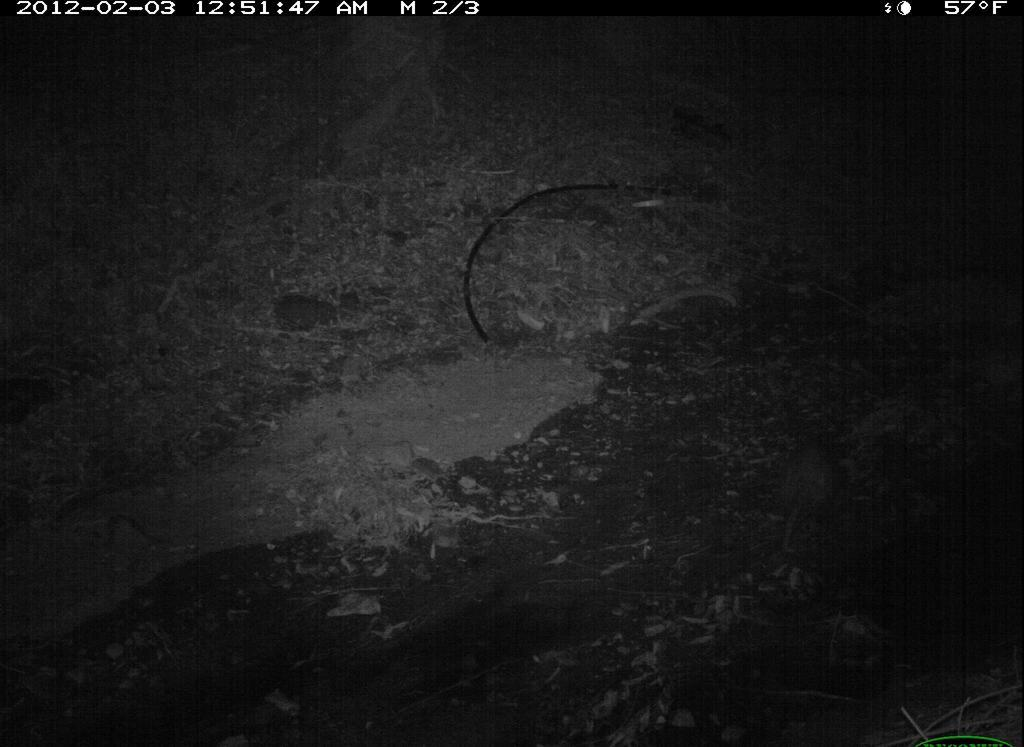opossum: (767, 420, 847, 564)
